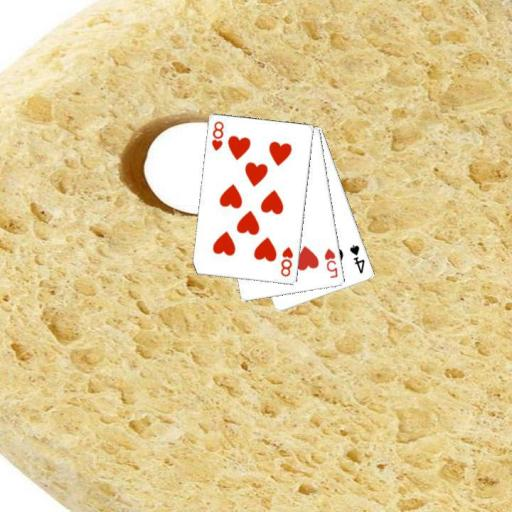4S: (347, 242, 366, 275)
5H: (322, 246, 340, 281)
8H: (278, 244, 295, 278), (209, 118, 226, 152)
